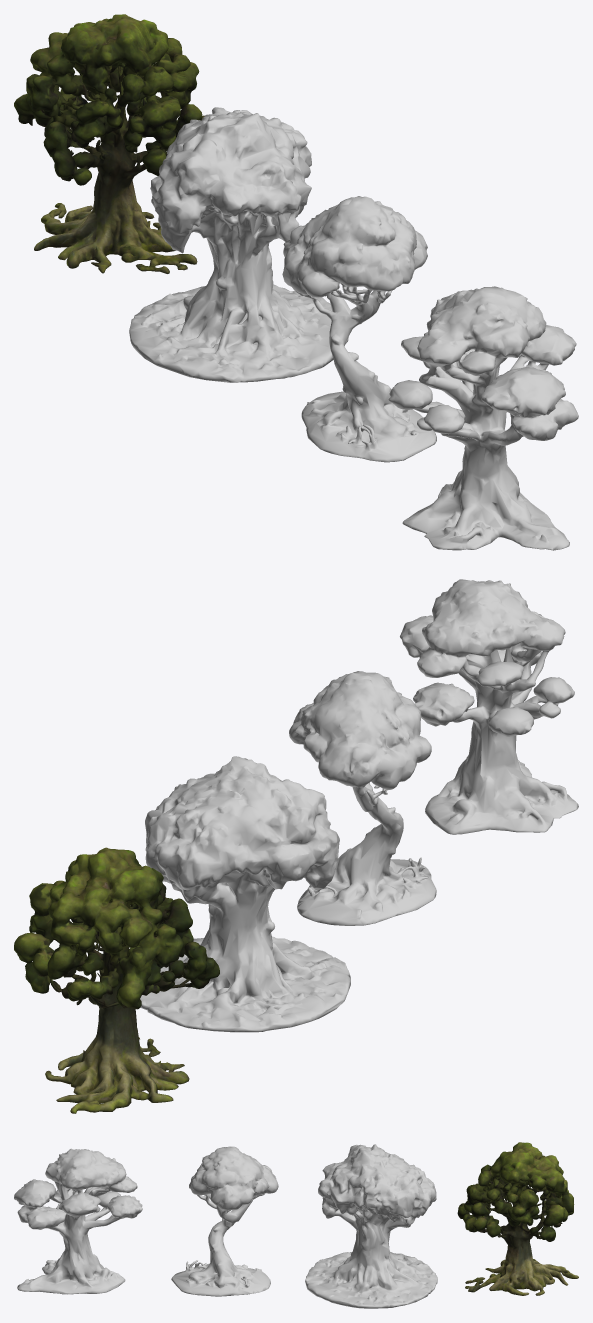
File: 4trees_mossy.fbx
3 views of the same model, one above another, from view 1: azimuth 30°, elevation 25°; view 2: azimuth 150°, elevation 25°; view 3: azimuth 270°, elevation 25° (orthographic). The views are drawn at different scales.
Parts seen in each view (by area): view 1: tree1, tree3, tree0, tree2; view 2: tree1, tree0, tree3, tree2; view 3: tree1, tree3, tree0, tree2.
Boxes of the visible parts, left/top/right/bottom form: tree1: left=129, top=107, right=348, bottom=382; tree3: left=388, top=286, right=578, bottom=550; tree0: left=14, top=14, right=204, bottom=273; tree2: left=282, top=196, right=436, bottom=462; tree1: left=140, top=756, right=350, bottom=1032; tree0: left=14, top=847, right=219, bottom=1113; tree3: left=400, top=579, right=578, bottom=834; tree2: left=289, top=671, right=436, bottom=925; tree1: left=305, top=1144, right=437, bottom=1308; tree3: left=14, top=1148, right=142, bottom=1294; tree0: left=457, top=1142, right=578, bottom=1295; tree2: left=171, top=1146, right=278, bottom=1296.
Size of the model in its own units: 178 by 200 by 771.
